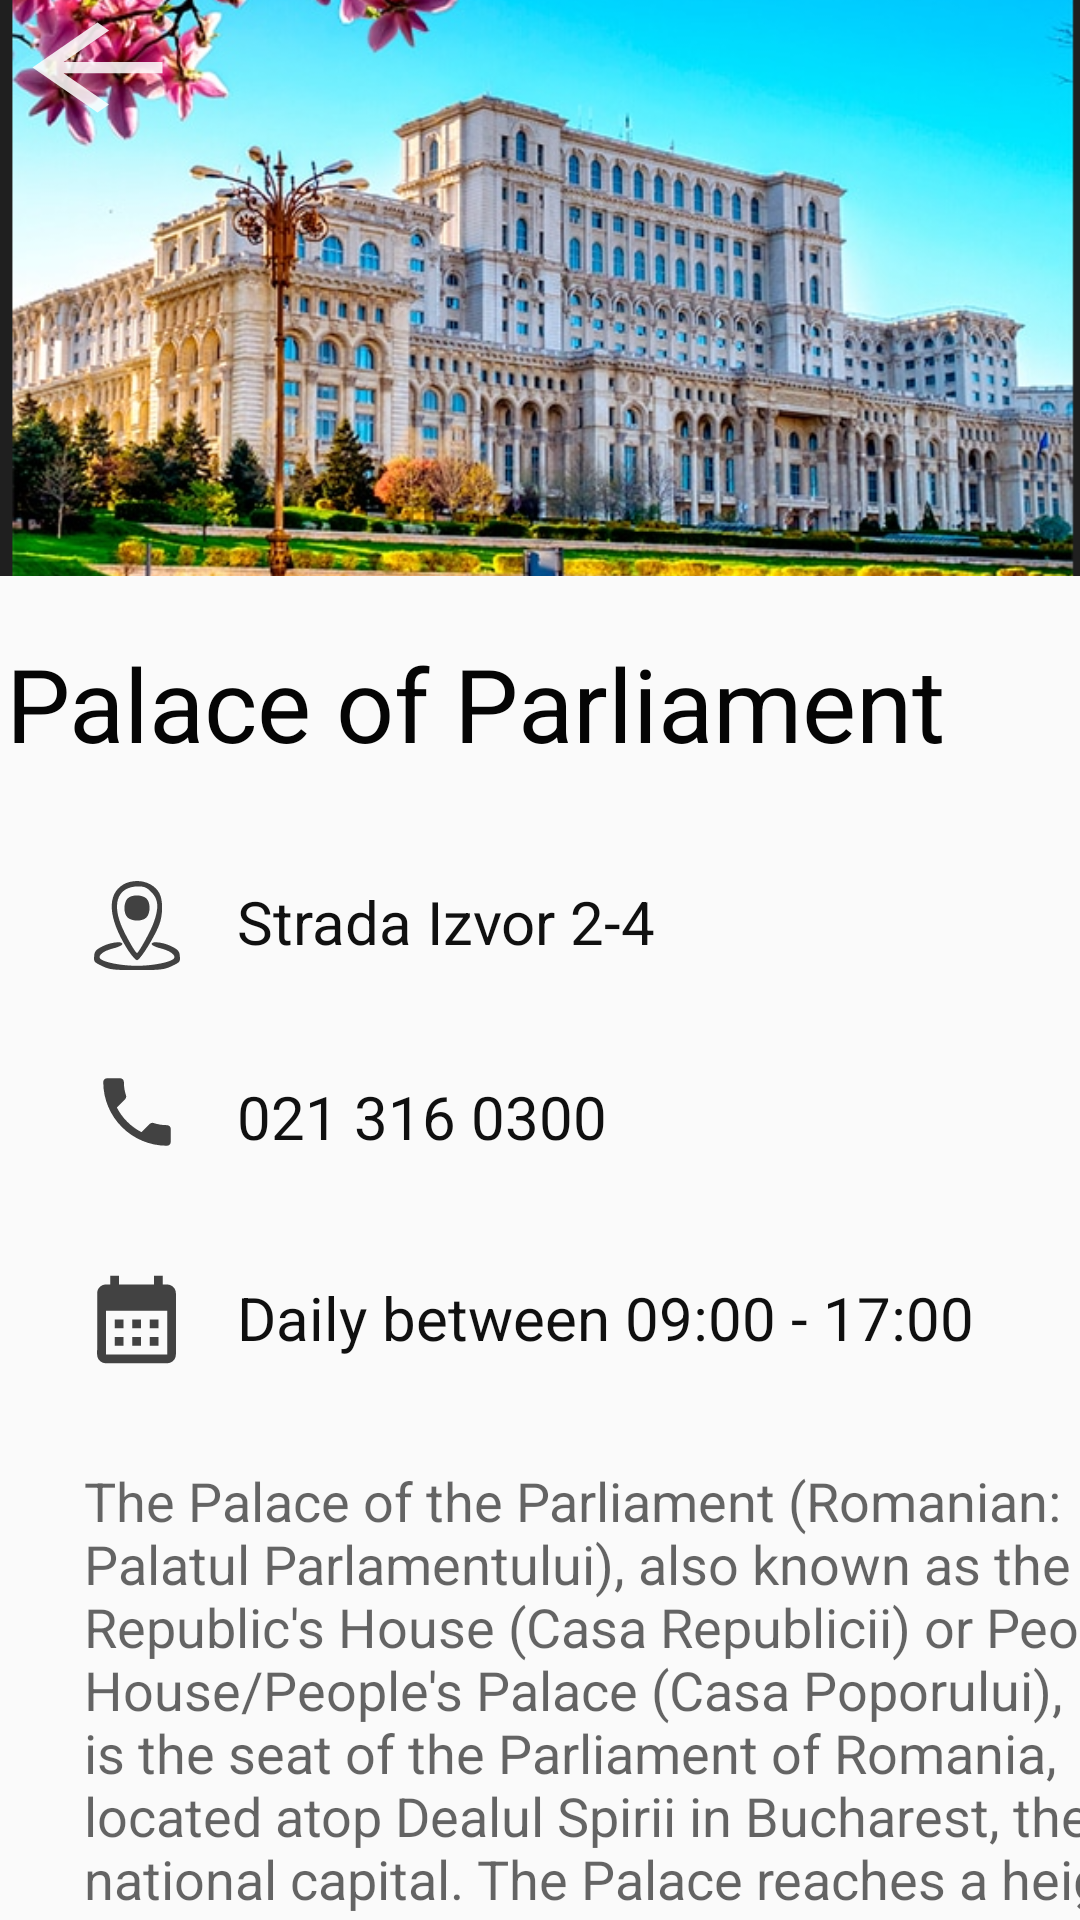

Where icons sit on this 1080px×1920px app screen, as (x1, y1, x2, y2):
calendar month: (97, 1275, 176, 1364)
local phone: (103, 1078, 171, 1146)
place marker: (94, 881, 180, 970)
